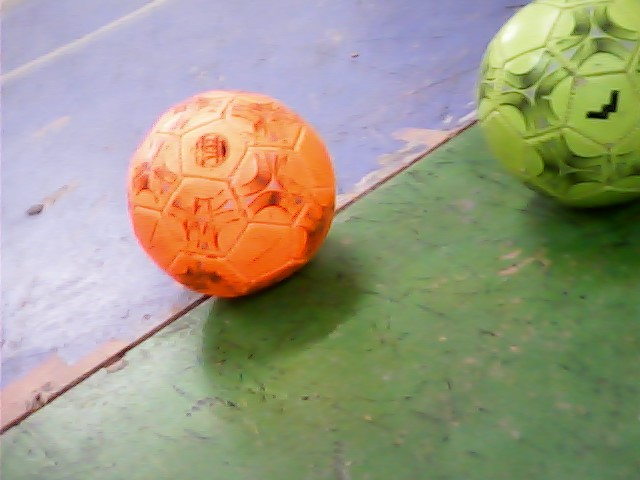Green_ball: (473, 3, 640, 204)
Orange_ball: (126, 87, 340, 302)
